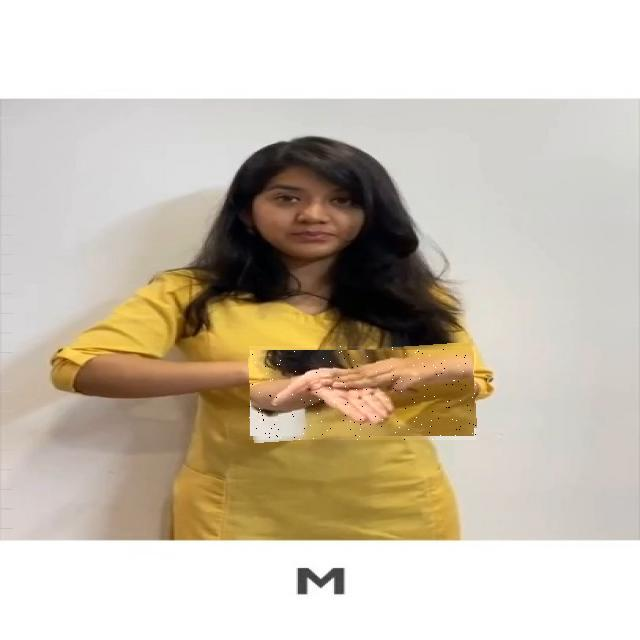M: (249, 346, 476, 440)
